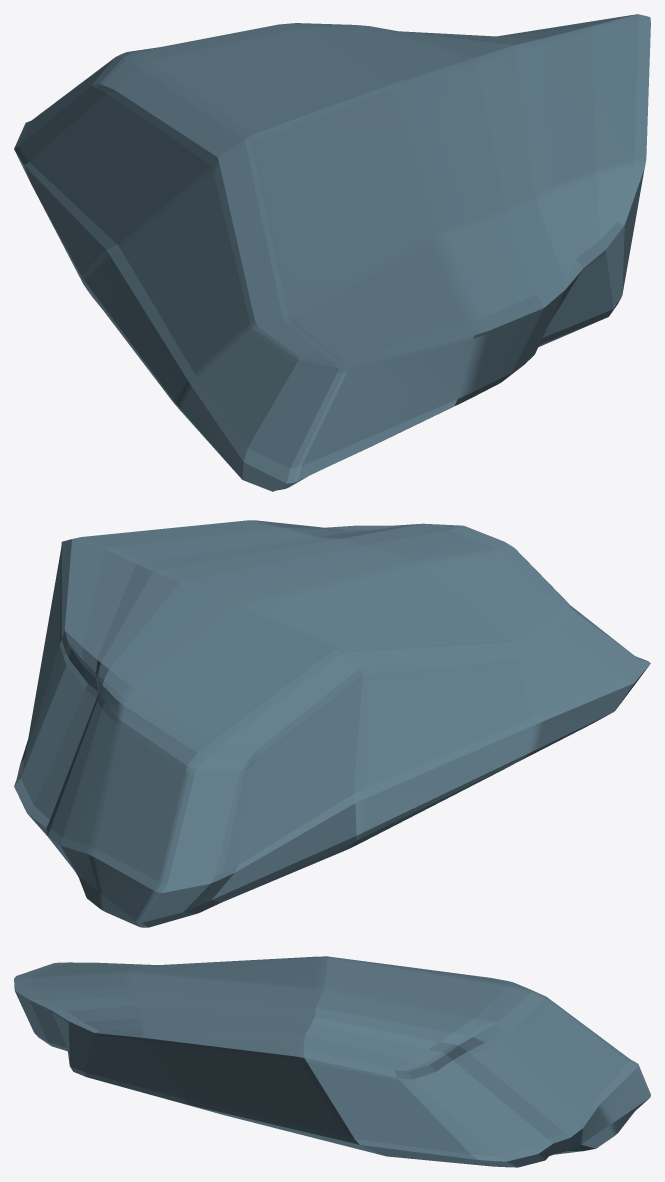
The model's file is ROCKS_ROUND_K_PRIM.fbx.
3 views of the same model, one above another, from view 1: azimuth 30°, elevation 25°; view 2: azimuth 150°, elevation 25°; view 3: azimuth 270°, elevation 25° (orthographic). The views are drawn at different scales.
Parts seen in each view (by area): view 1: ROCKSROUNDK_PRIM; view 2: ROCKSROUNDK_PRIM; view 3: ROCKSROUNDK_PRIM.
Boxes of the visible parts, x1=… form: ROCKSROUNDK_PRIM: x1=14, y1=14, x2=650, y2=491; ROCKSROUNDK_PRIM: x1=14, y1=520, x2=650, y2=927; ROCKSROUNDK_PRIM: x1=14, y1=956, x2=650, y2=1167.
Bounding box in the file's own units: 16.51 × 7.15 × 23.01.
